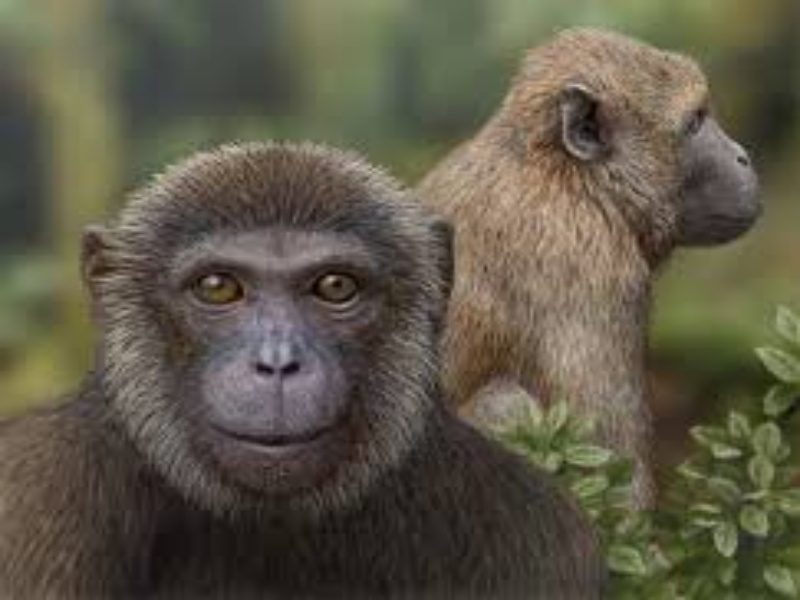monkey: (43, 27, 766, 597)
